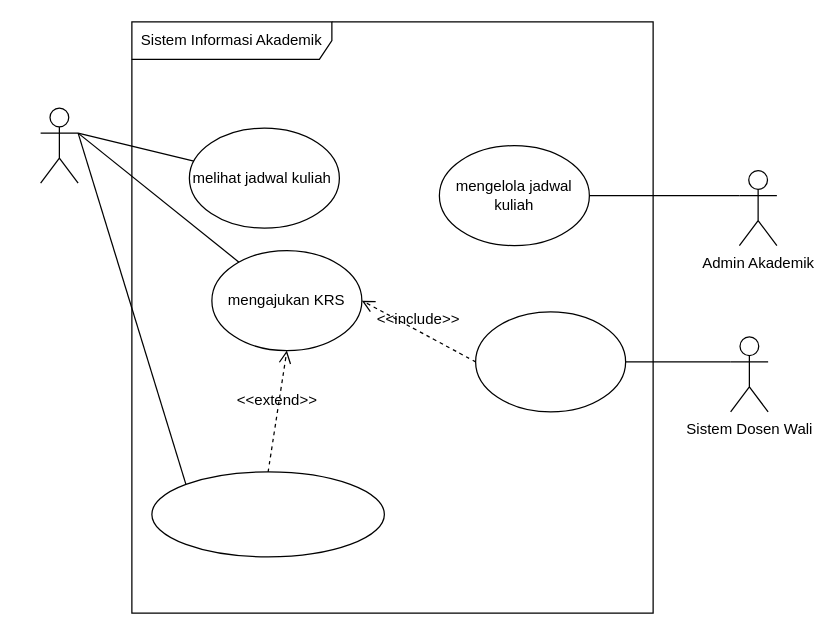
Image size: 835x635. Some labels were removed from this diagram. Here are the shapes that lost their labels. From the top down, the centre of each, then its label:
(x=58, y=145): Mahasiswa
(x=550, y=361): memvalidasi KRS, memproses persetujuan atau penolakan KRS
(x=267, y=514): mengunduh bukti
